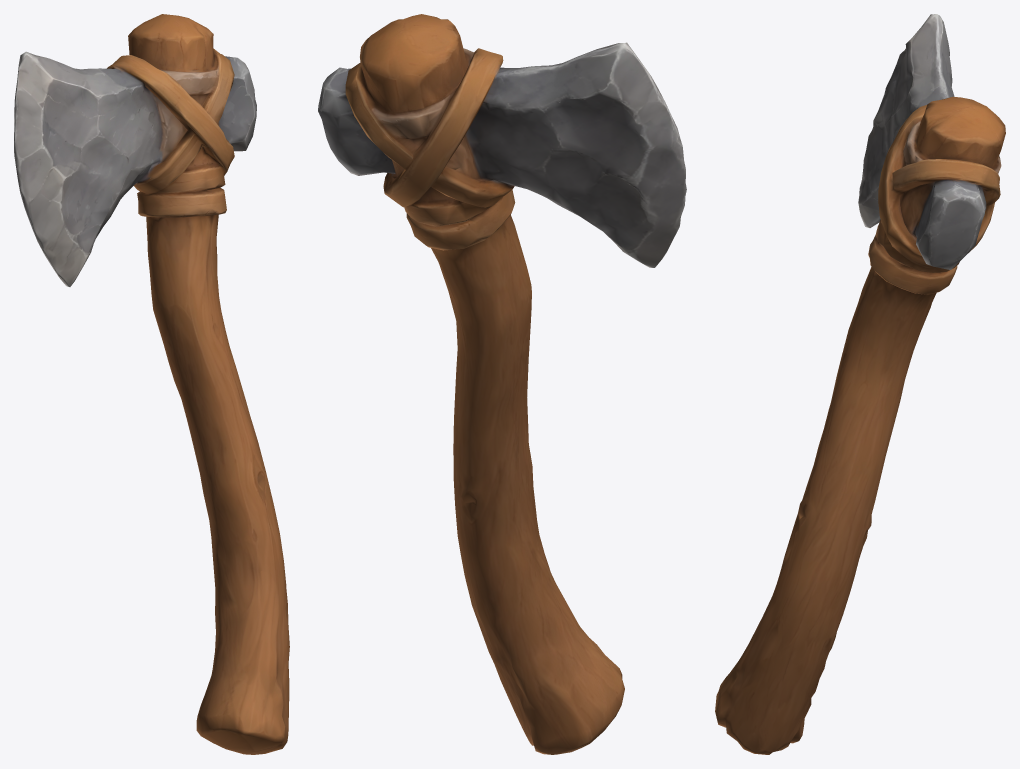
The model's file is ecos_machado.glb.
The picture shows the model from 3 angles, left to right: view 1: azimuth 30°, elevation 25°; view 2: azimuth 150°, elevation 25°; view 3: azimuth 270°, elevation 25°; orthographic projection. The views are drawn at different scales.
Visible parts, largest first — view 1: tripo_node_a970bd04-5292-4edb-be92-715dba1d876d; view 2: tripo_node_a970bd04-5292-4edb-be92-715dba1d876d; view 3: tripo_node_a970bd04-5292-4edb-be92-715dba1d876d.
Part boxes in pixels (bbox=[...]): tripo_node_a970bd04-5292-4edb-be92-715dba1d876d: bbox=[14, 14, 289, 754]; tripo_node_a970bd04-5292-4edb-be92-715dba1d876d: bbox=[318, 14, 686, 754]; tripo_node_a970bd04-5292-4edb-be92-715dba1d876d: bbox=[715, 14, 1005, 754].
Bounding box in the file's own units: 0.4043 × 1 × 0.3962.
1 material, 1 textured.
